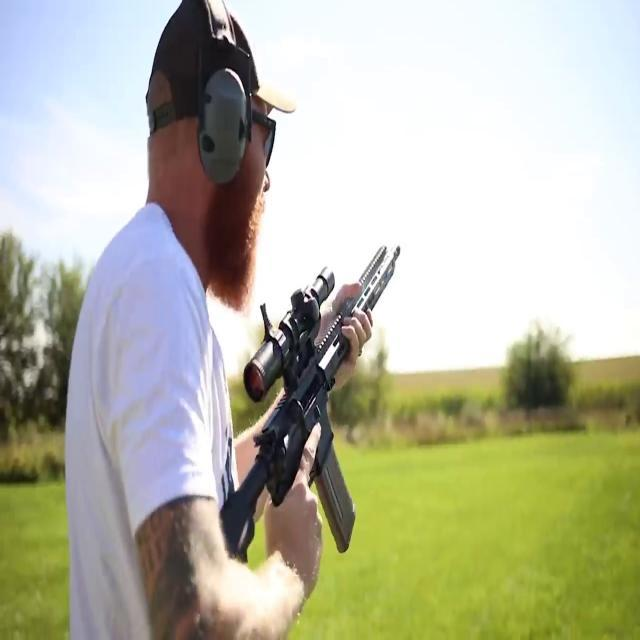Rifle: (226, 226, 412, 562)
